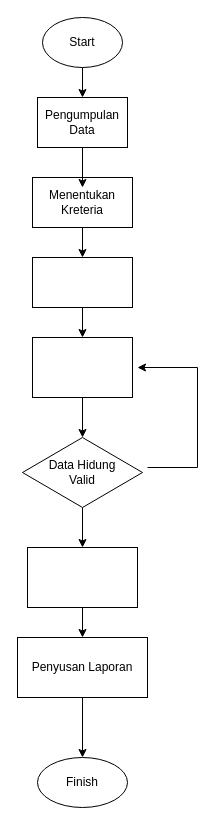
This 223x825 diagram has some shape labels left out. The centre of each missing label's shape, as x and y in pixels:
Menghitung Bobot: the point at 82,367
Metode TOPSIS: the point at 82,282
Perengkinan Tiap Kreteria: the point at 82,577
